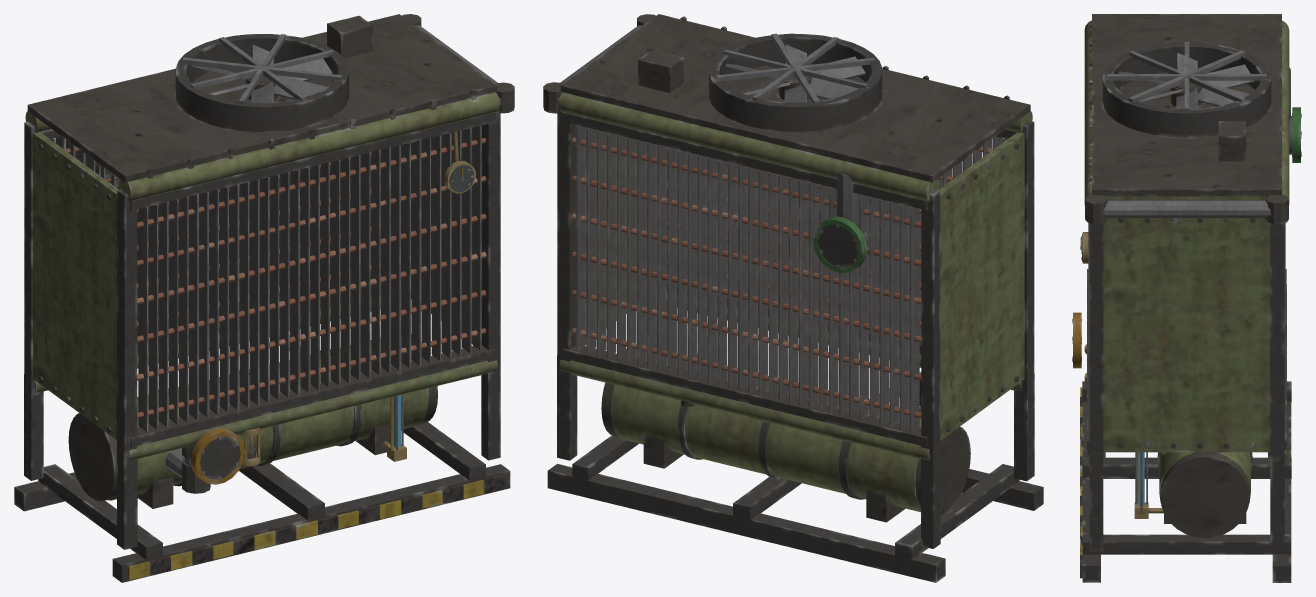
File: feCondenser_HD.fbx
3 views of the same model, side by side, from view 1: azimuth 30°, elevation 25°; view 2: azimuth 150°, elevation 25°; view 3: azimuth 270°, elevation 25° (orthographic). The views are drawn at different scales.
Visible parts, largest first — view 1: feCondenser_Base, FeFan_Condenser; view 2: feCondenser_Base, FeFan_Condenser; view 3: feCondenser_Base, FeFan_Condenser, FeLevelLiquid.
Boxes of the visible parts, x1,y1,x2,y2 form: feCondenser_Base: (14,14,514,582); FeFan_Condenser: (192,44,332,102); feCondenser_Base: (543,14,1043,582); FeFan_Condenser: (725,44,865,102); feCondenser_Base: (1072,14,1301,582); FeFan_Condenser: (1119,53,1254,108); FeLevelLiquid: (1138,452,1144,505).
Bounding box in the file's own units: 1.97 × 2.03 × 1.01.
2 materials, 1 textured.
